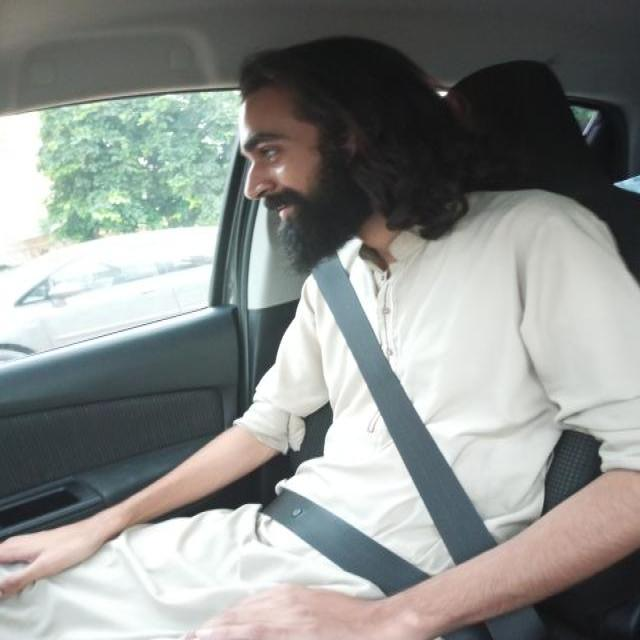seatbelt: (213, 263, 622, 605)
